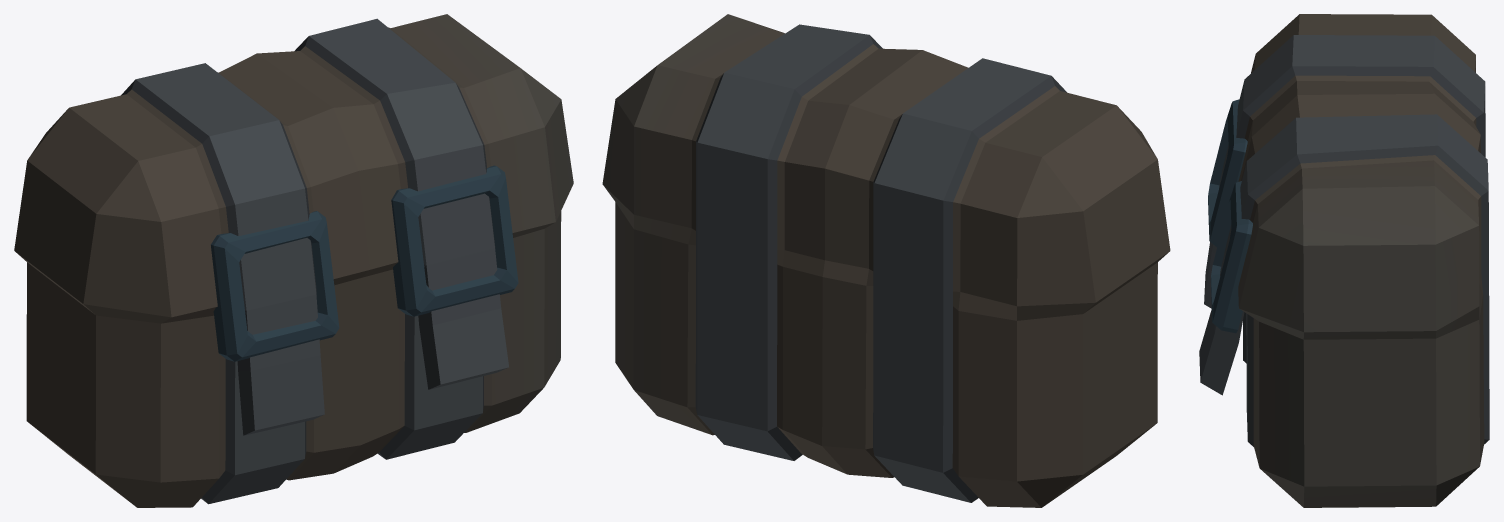
File: SM_Mech_01_Attach_Saddlebag_01.fbx
The picture shows the model from 3 angles, left to right: view 1: azimuth 30°, elevation 25°; view 2: azimuth 150°, elevation 25°; view 3: azimuth 270°, elevation 25°; orthographic projection. The views are drawn at different scales.
Visible parts, largest first — view 1: SM_Mech_01_Attach_Saddlebag_01; view 2: SM_Mech_01_Attach_Saddlebag_01; view 3: SM_Mech_01_Attach_Saddlebag_01.
Boxes of the visible parts, x1,y1,x2,y2 form: SM_Mech_01_Attach_Saddlebag_01: (14, 14, 573, 507); SM_Mech_01_Attach_Saddlebag_01: (602, 14, 1170, 507); SM_Mech_01_Attach_Saddlebag_01: (1199, 14, 1489, 507).
Size of the model in its own units: 46.69 by 33.53 by 25.84.
